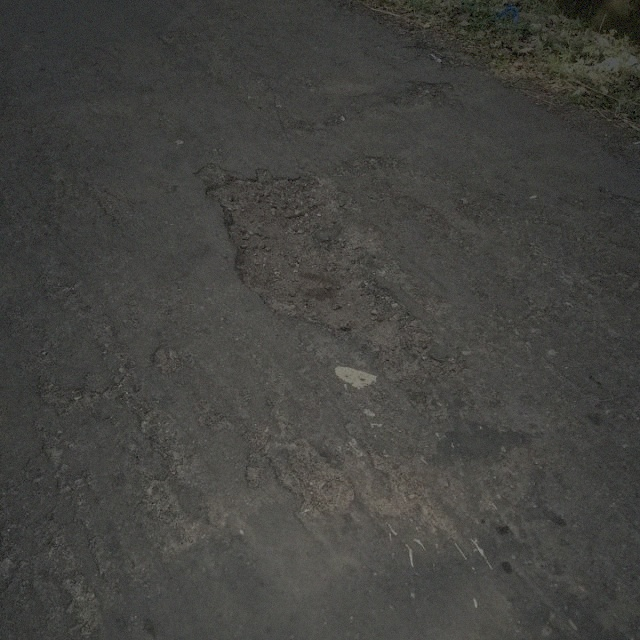pothole: (195, 161, 417, 350), (402, 75, 456, 106)
